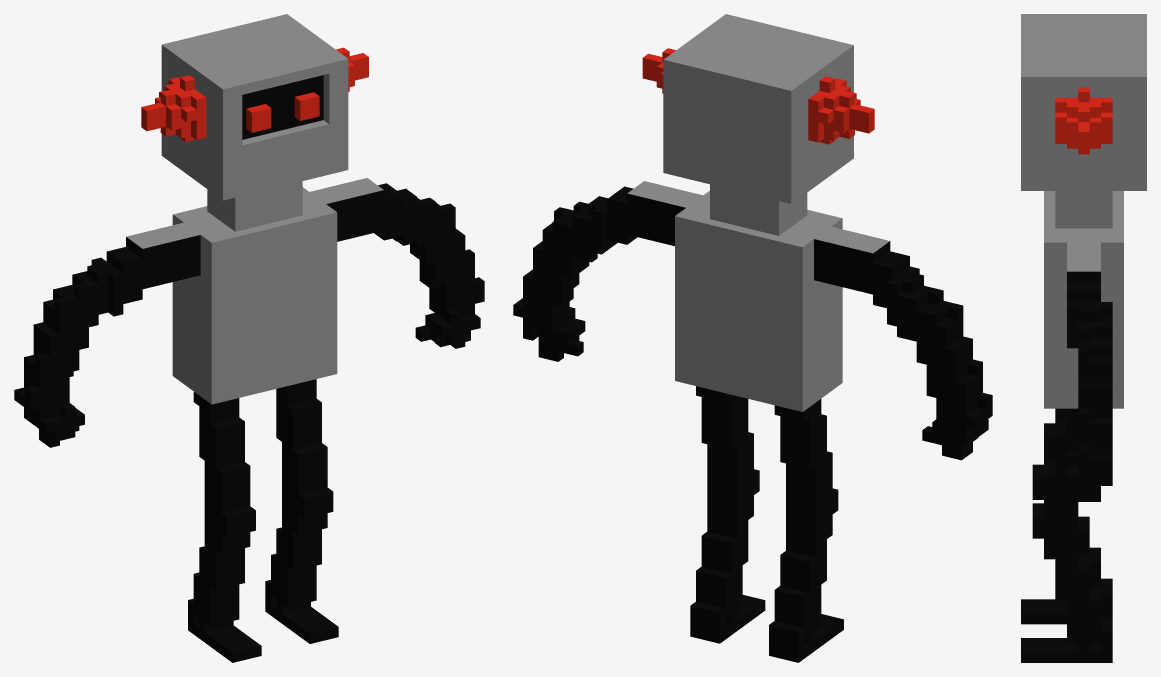
File: RRobot.fbx
3 views of the same model, side by side, from view 1: azimuth 30°, elevation 25°; view 2: azimuth 150°, elevation 25°; view 3: azimuth 270°, elevation 25° (orthographic). The views are drawn at different scales.
Visible parts, largest first — view 1: Cube.005; view 2: Cube.005; view 3: Cube.005.
Boxes of the visible parts, x1,y1,x2,y2 form: Cube.005: (14,14,484,662); Cube.005: (513,14,992,662); Cube.005: (1021,14,1146,662).
Bounding box in the file's own units: 368 × 446 × 86.12.
